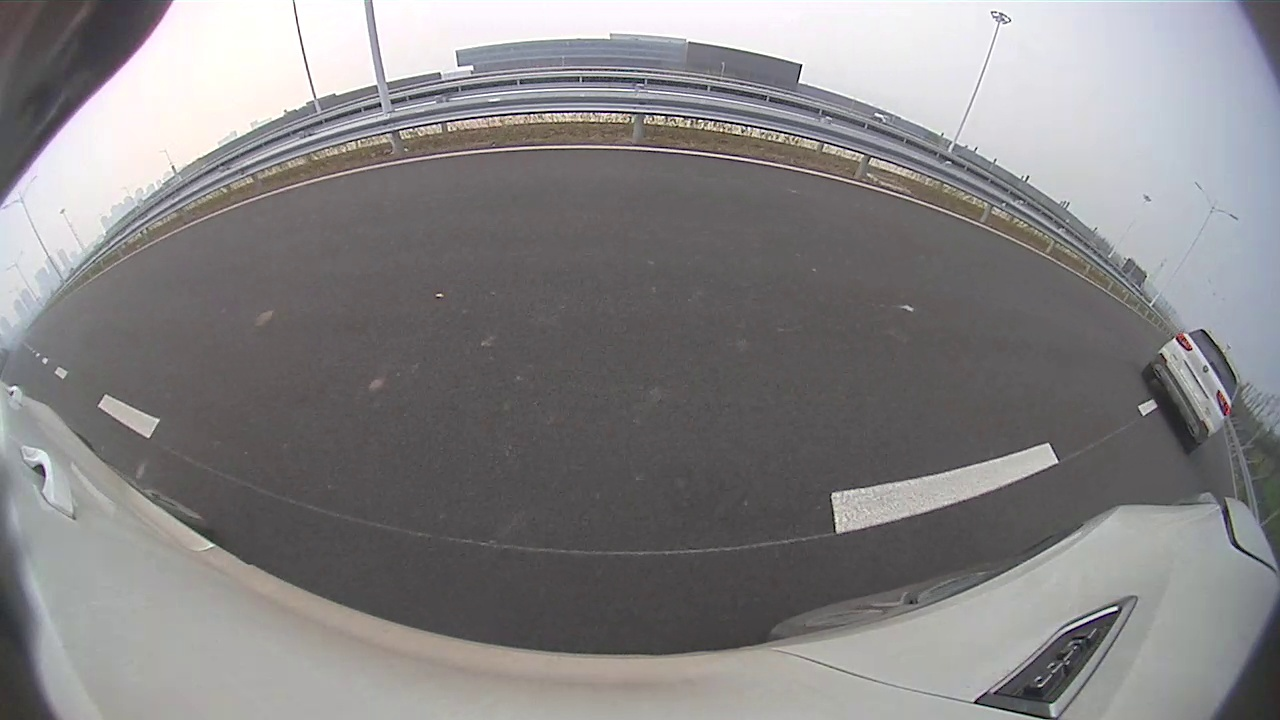car: (1142, 331, 1240, 455)
